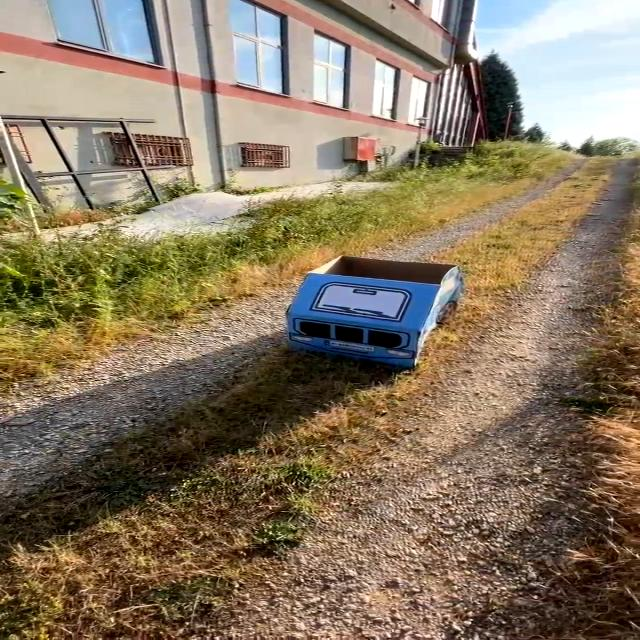blue_car: (263, 223, 495, 405)
